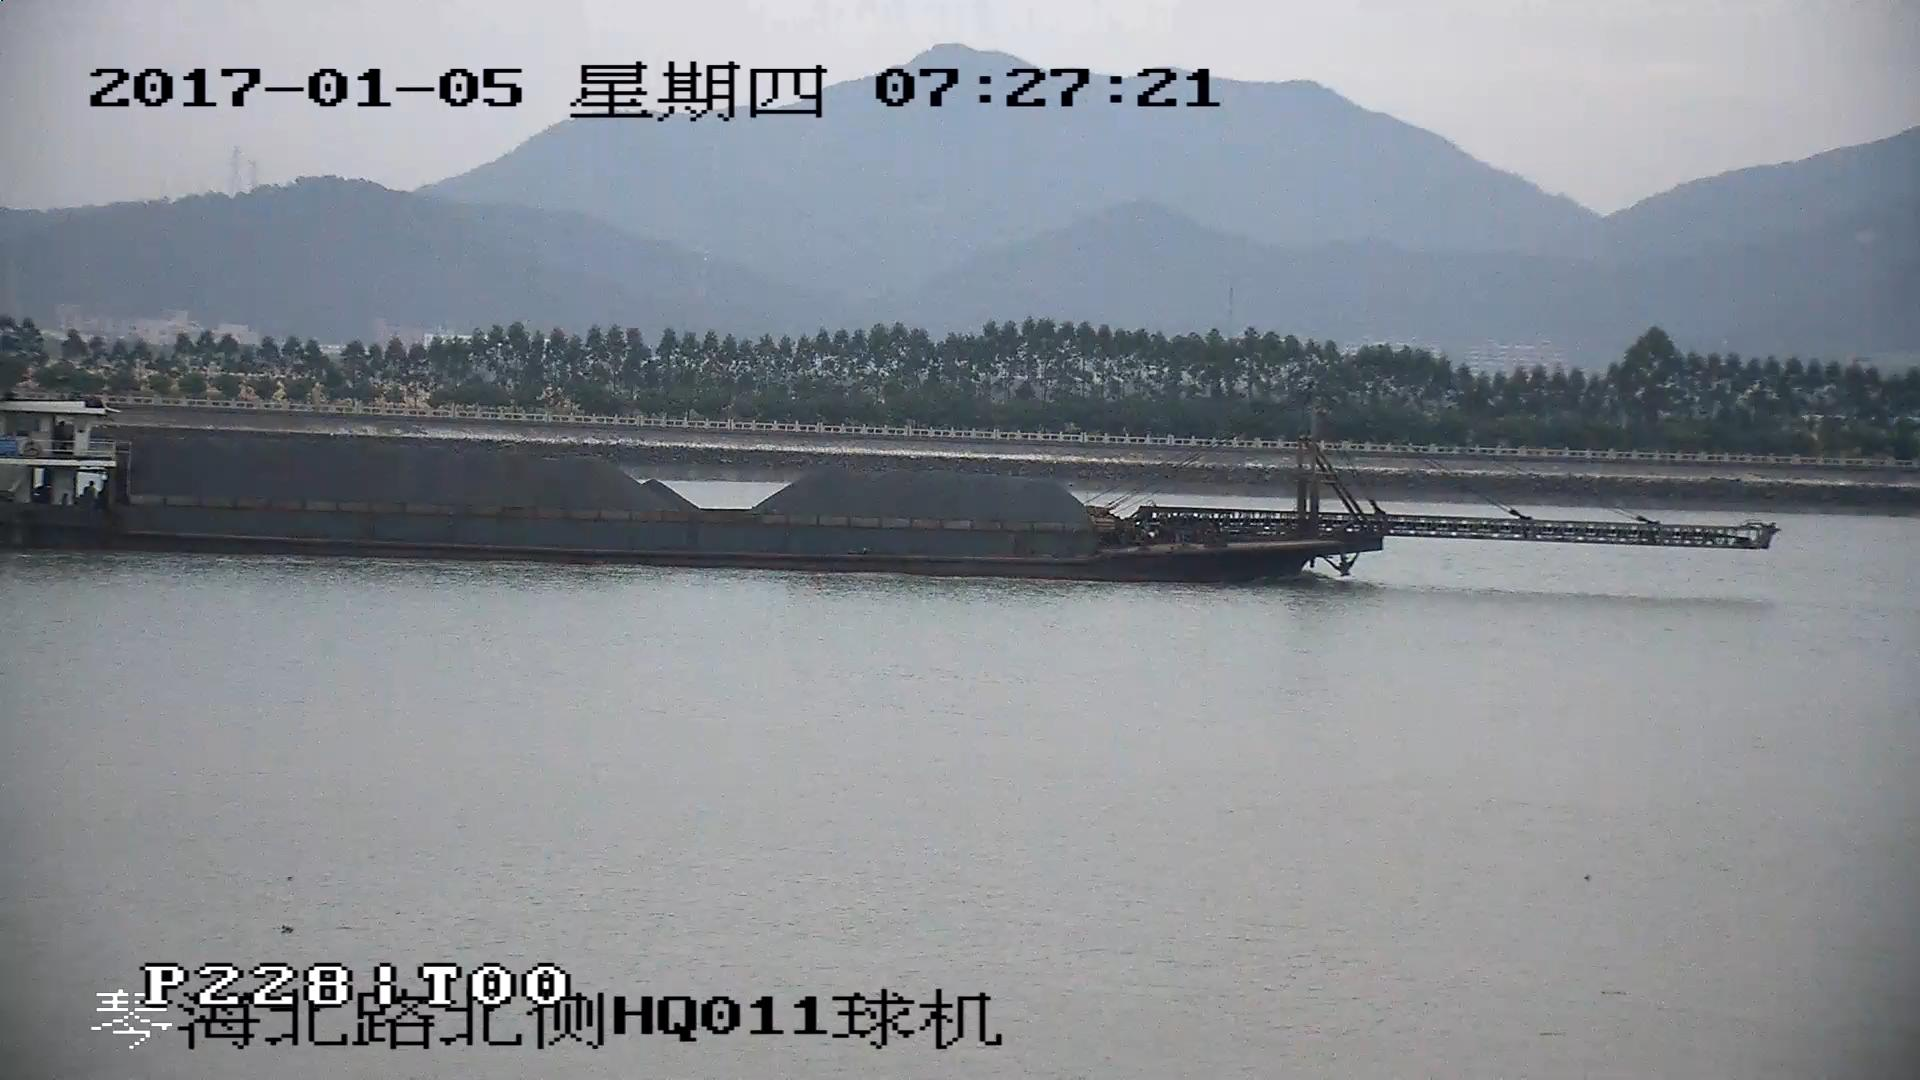ore carrier: (1, 399, 1774, 582)
